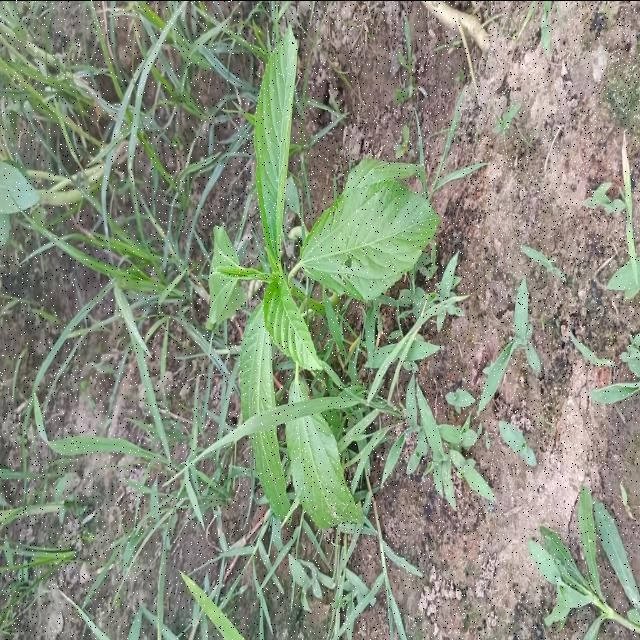plant: (207, 24, 440, 419), (286, 412, 360, 527), (251, 428, 290, 518), (289, 374, 307, 401)
